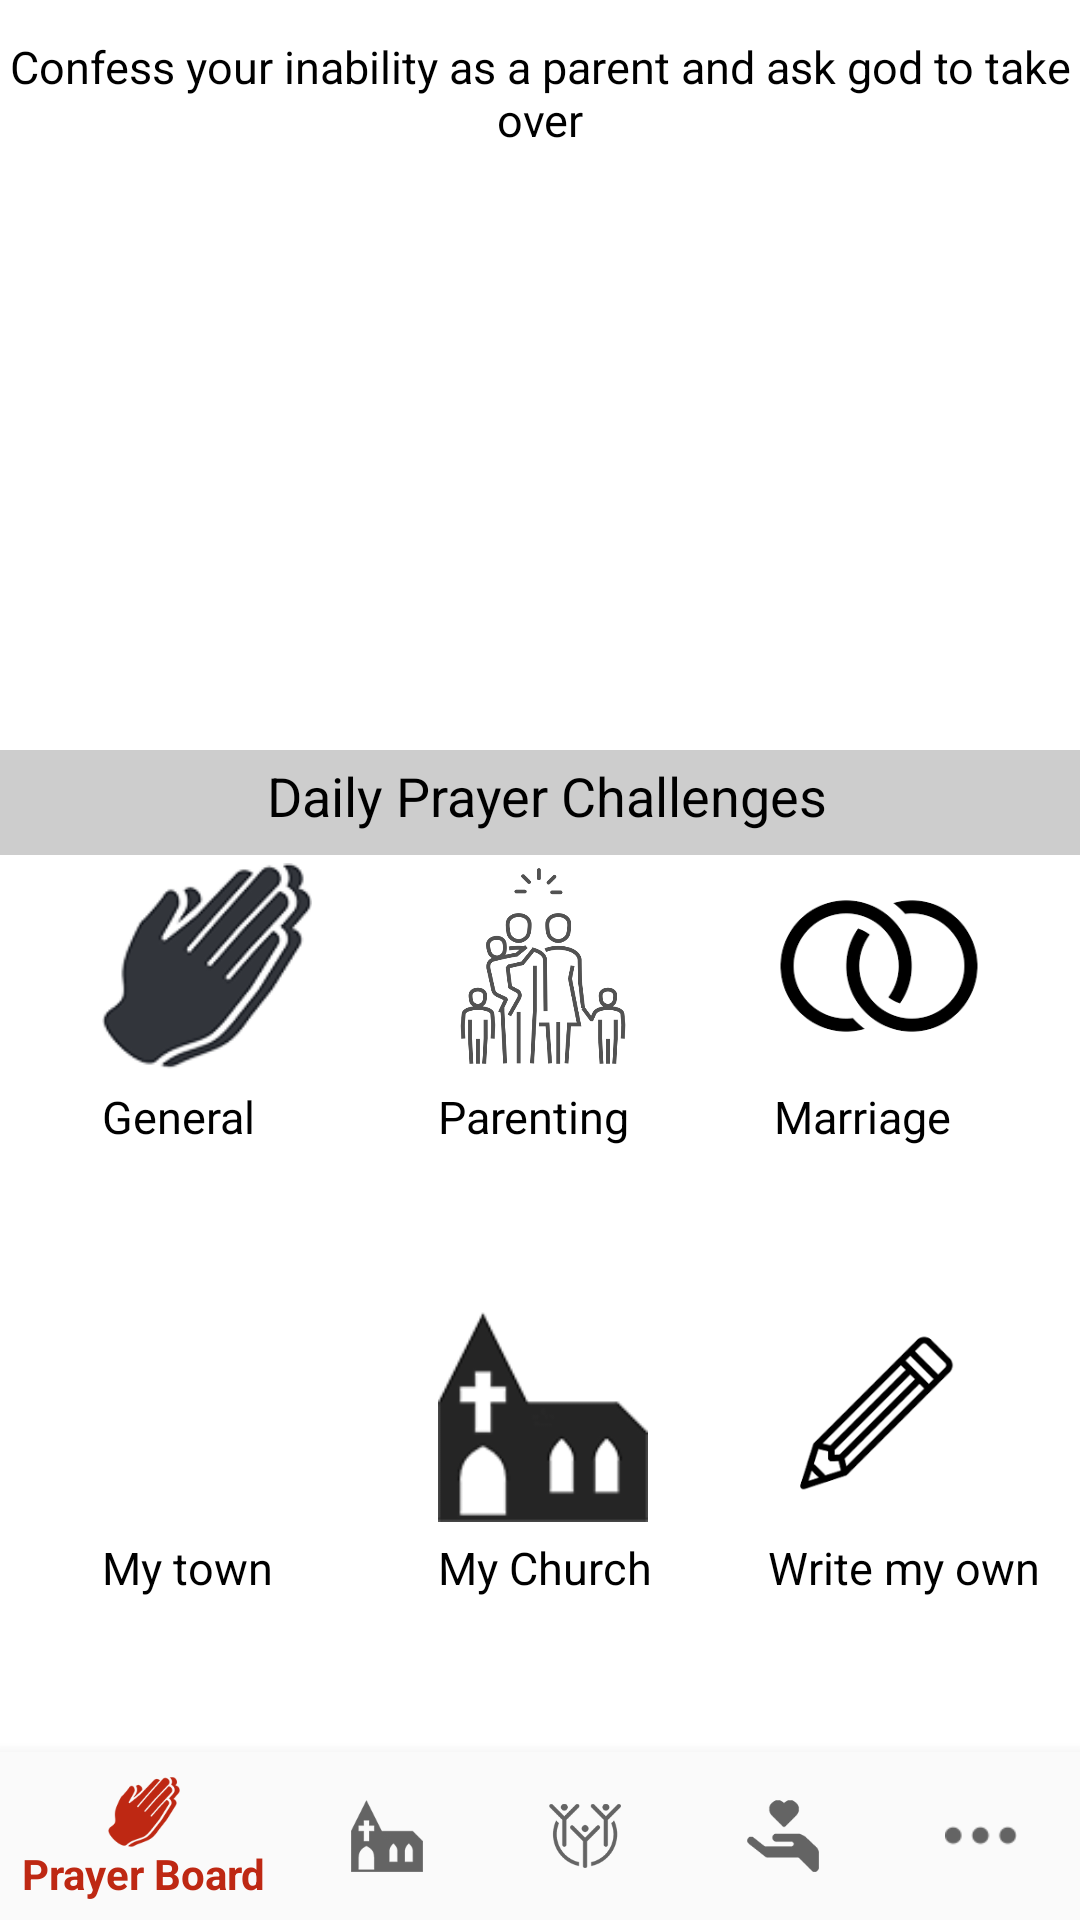

Screen size 1080 × 1920. Icon name, then its box in pixels as (x1, y1, x2, y2):
family: (460, 868, 626, 1064)
pencil: (800, 1336, 953, 1490)
